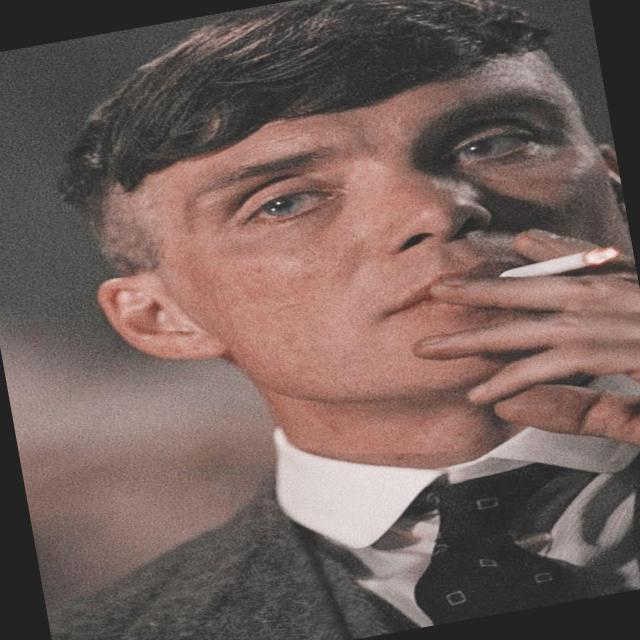cigarette: (478, 219, 636, 299)
